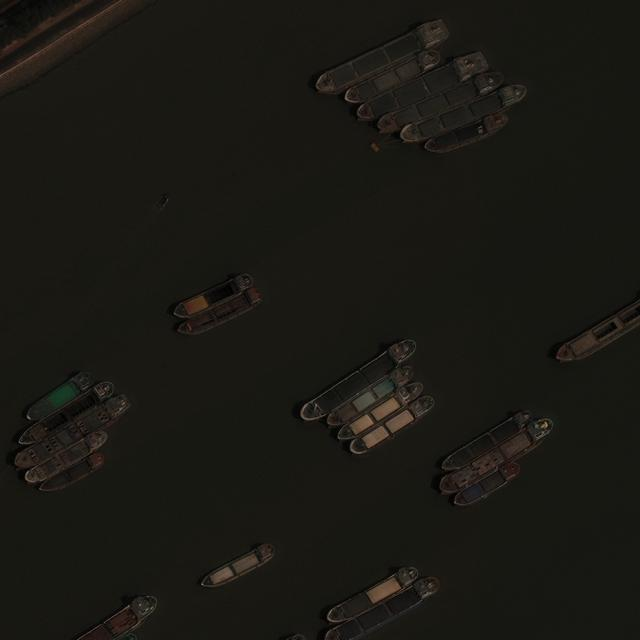Cargo: (310, 16, 452, 101), (296, 334, 421, 428), (436, 414, 557, 501), (354, 51, 490, 125), (12, 393, 134, 473), (374, 68, 508, 137), (396, 81, 530, 147), (325, 577, 440, 640), (17, 378, 116, 449), (323, 362, 418, 432), (439, 408, 534, 476), (342, 47, 442, 109), (325, 564, 423, 627), (334, 378, 426, 445), (347, 392, 438, 459), (555, 297, 640, 363), (23, 429, 111, 487), (176, 288, 266, 341), (23, 368, 97, 426), (171, 271, 255, 322), (198, 542, 279, 594), (423, 112, 510, 159), (77, 595, 158, 640), (451, 460, 522, 511), (36, 451, 108, 498), (117, 634, 138, 640)
